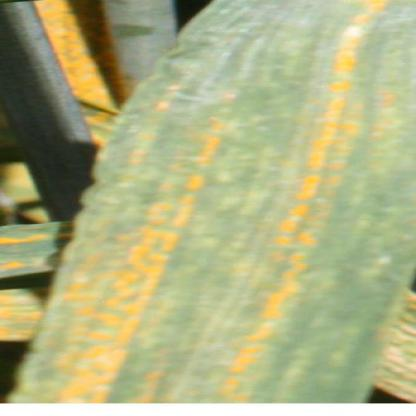Wheat-Yellow-rust: (198, 12, 392, 306), (135, 83, 180, 354), (218, 322, 360, 404), (31, 362, 208, 409), (26, 8, 87, 136), (74, 235, 109, 362), (3, 232, 62, 267)
